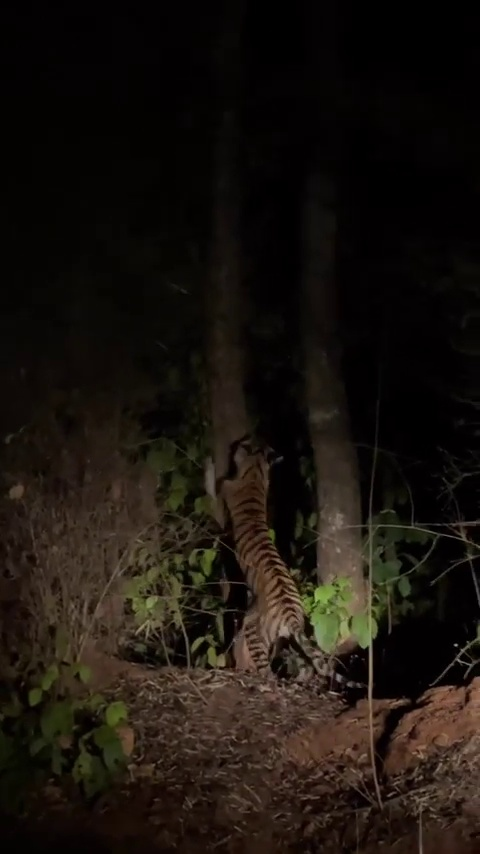Tiger: (201, 438, 374, 692)
